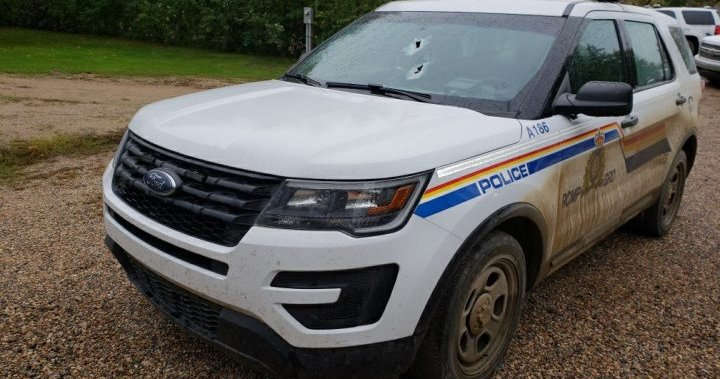special: (100, 3, 699, 379)
